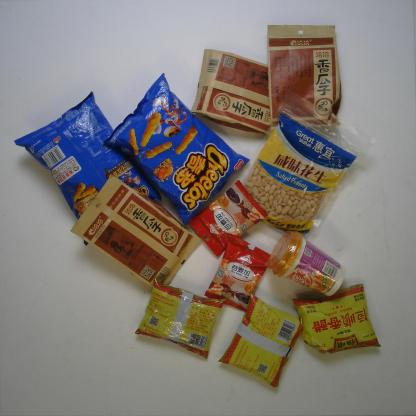Dried Food: (74, 174, 200, 289), (181, 47, 306, 139), (262, 19, 356, 137)
Dried Fruit: (240, 93, 360, 240)
Instant Drink: (268, 228, 349, 300), (191, 180, 267, 248), (201, 234, 268, 311)
Puffed Food: (14, 90, 163, 239), (106, 74, 245, 214)
Seasoner: (217, 292, 303, 386), (292, 284, 385, 363), (138, 279, 226, 360)
